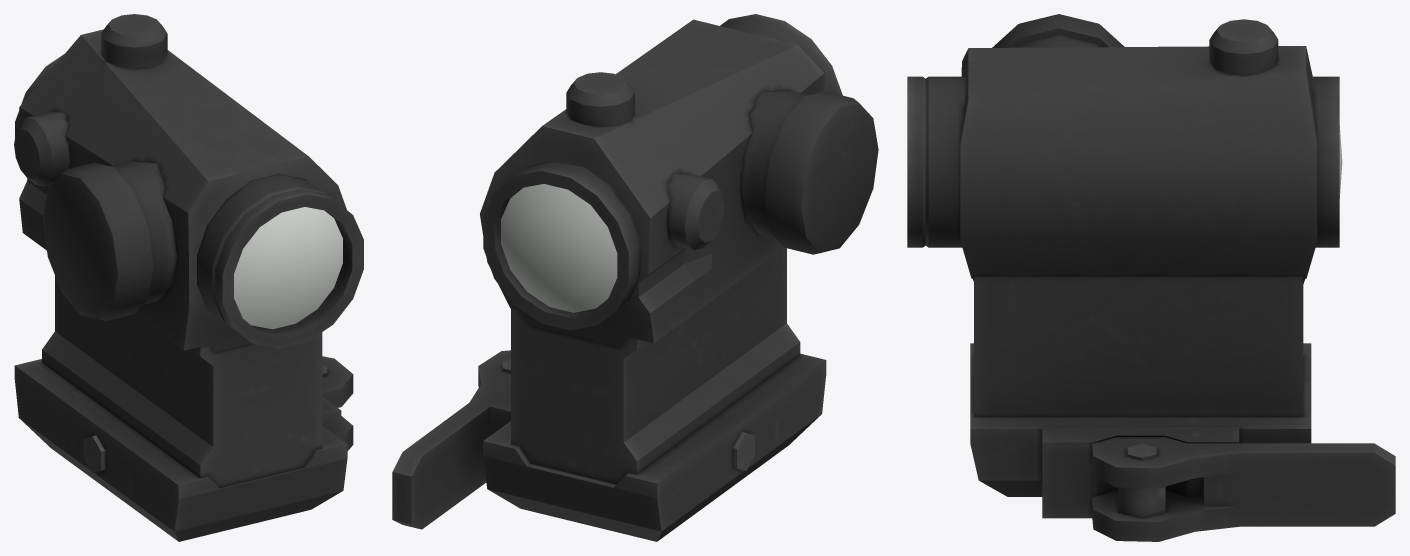
File: sight_2x.fbx
3 views of the same model, side by side, from view 1: azimuth 30°, elevation 25°; view 2: azimuth 150°, elevation 25°; view 3: azimuth 270°, elevation 25° (orthographic). The views are drawn at different scales.
Parts seen in each view (by area): view 1: 2x_scope, 2x_scope.001; view 2: 2x_scope, 2x_scope.001; view 3: 2x_scope.
Part boxes in pixels (x1,y1,x2,y2): 2x_scope: (14,14,363,541); 2x_scope.001: (234,207,342,329); 2x_scope: (392,14,878,541); 2x_scope.001: (501,184,617,312); 2x_scope: (907,14,1395,541).
Bounding box in the file's own units: 20.51 × 26.81 × 27.31.
